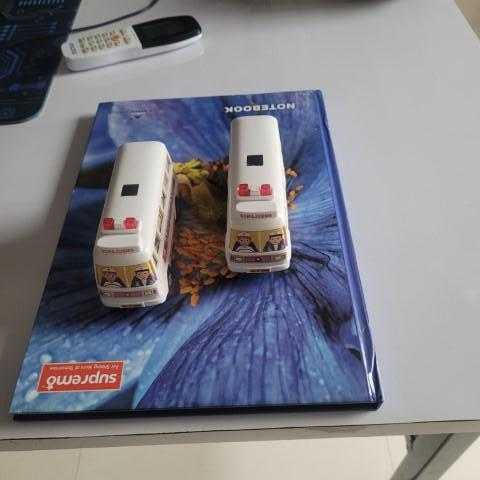ambulance: (88, 138, 180, 312), (226, 109, 293, 279)
